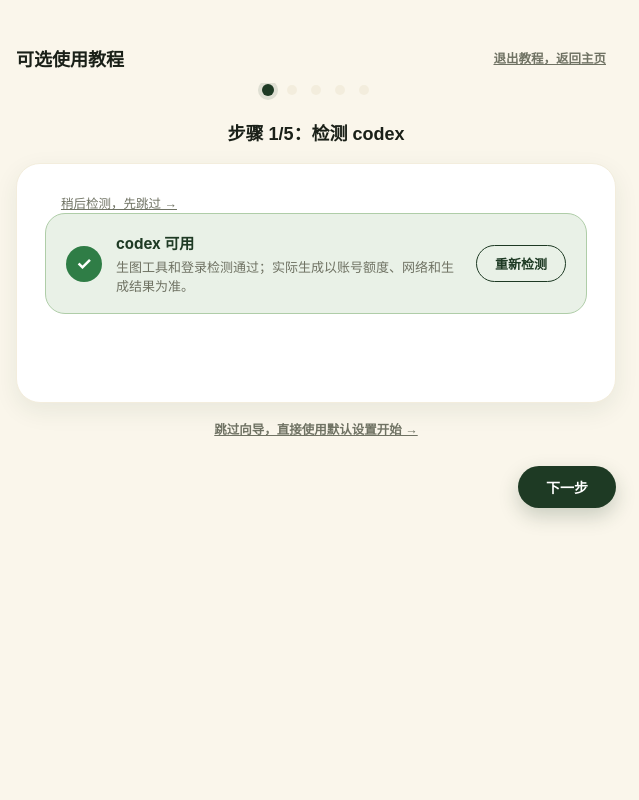
Test: wizard finish button › shows a backend error when save_prefs fails
Click the button "下一步" at point(567, 487), box [518,466,616,508]
(page scrolled)
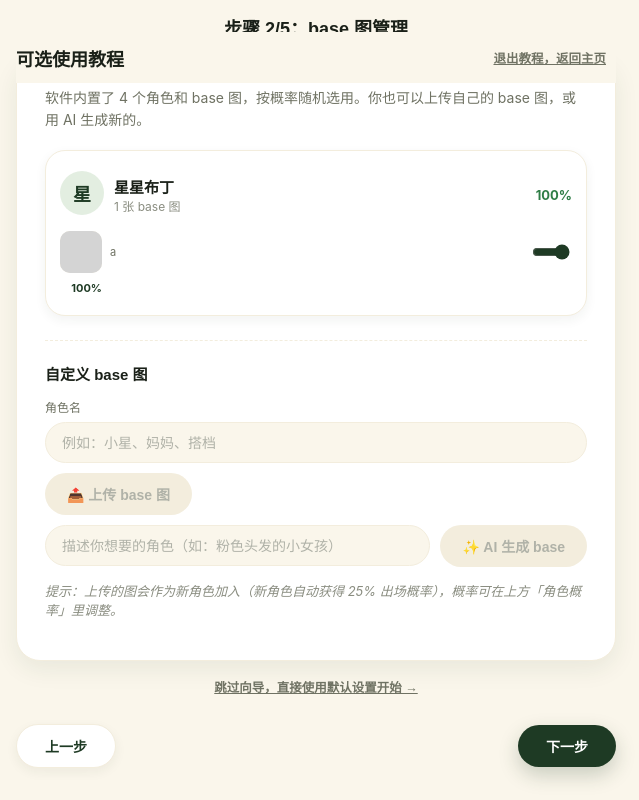
Click the button "下一步" at point(567, 746), box [518,725,616,767]
(page scrolled)
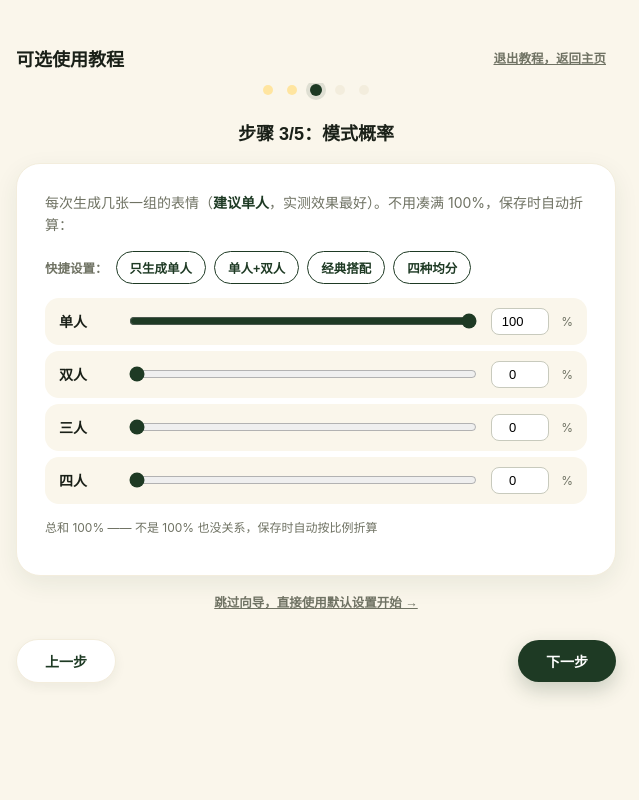
Click the button "下一步" at point(567, 661), box [518,640,616,682]
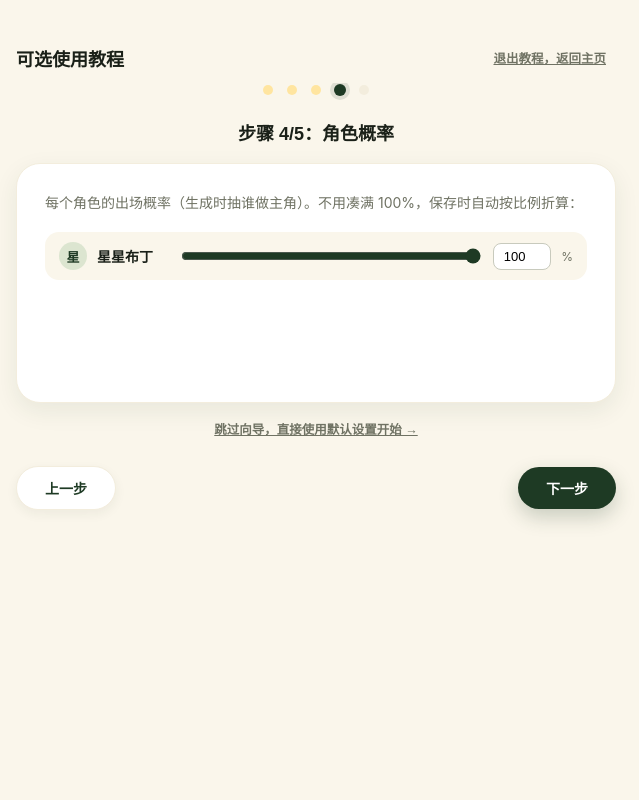
Click the button "下一步" at point(567, 488), box [518,467,616,509]
(page scrolled)
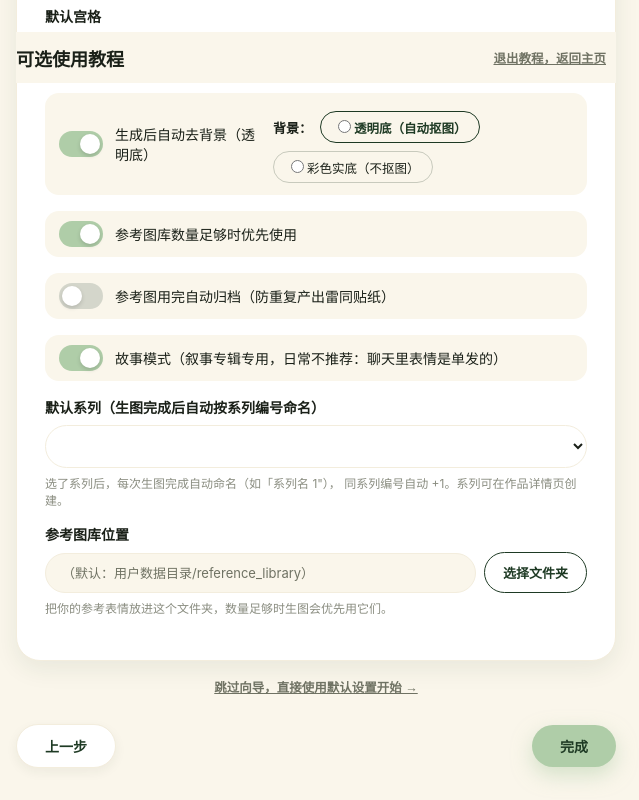
Click the button with class "btn-finish" at point(574, 746), box [532,725,616,767]
(page scrolled)
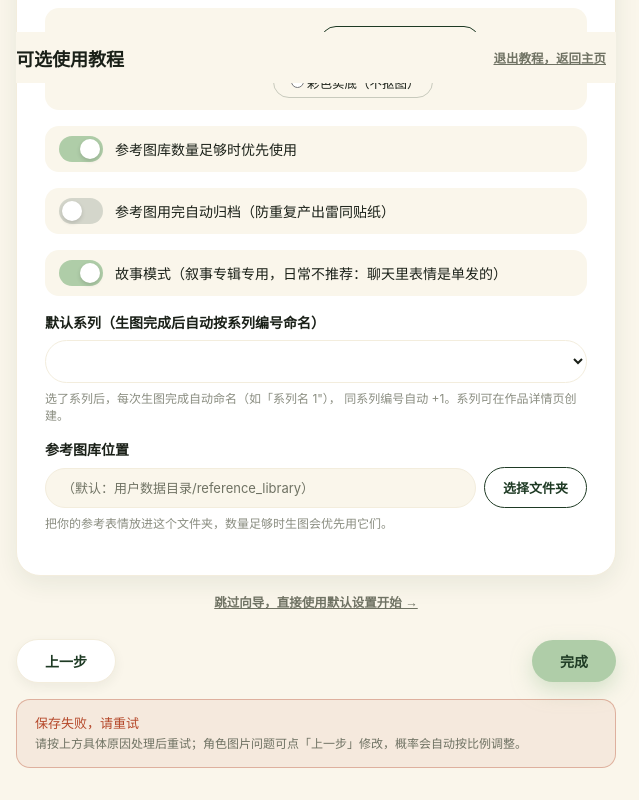
Check: the element with class "finish-error" is shown, box [16,699,616,768]
Check: the element with class "finish-error" shows "保存失败", box [35,715,139,731]
